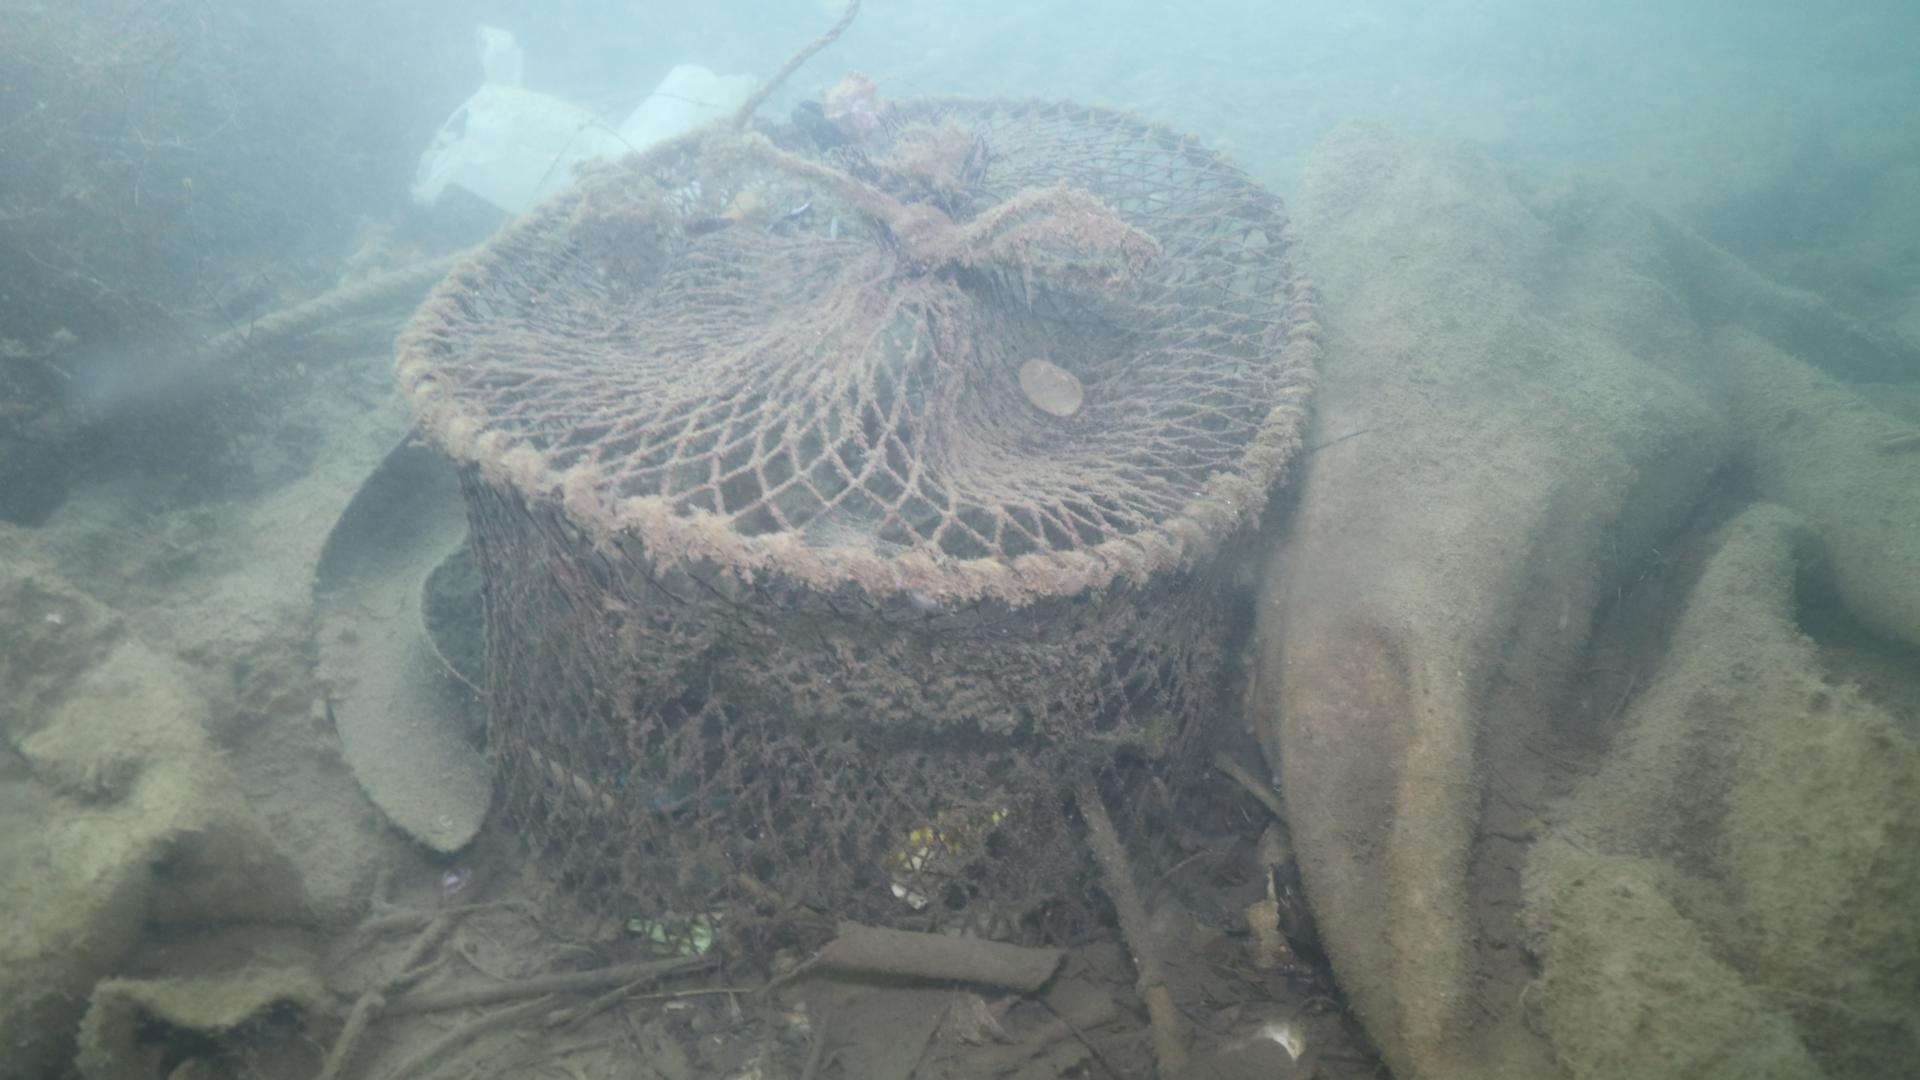circular fish trap: (392, 88, 1325, 975)
rope: (179, 269, 398, 363), (737, 1, 855, 131)
